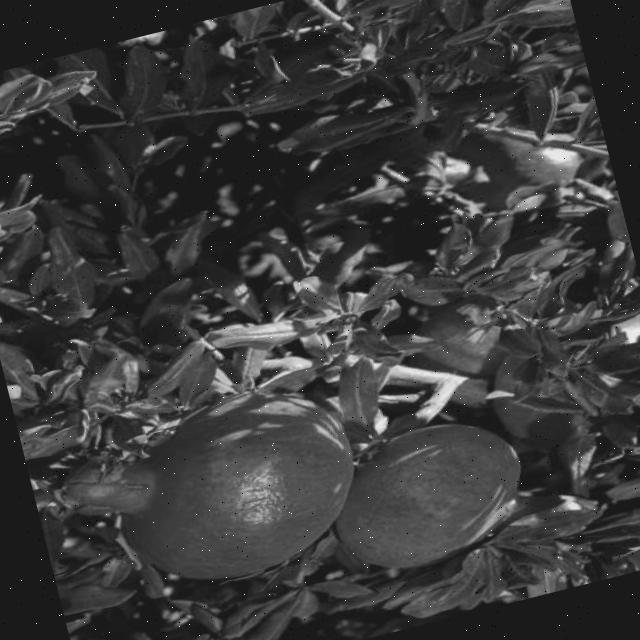Ripe: (44, 364, 387, 616), (323, 392, 570, 581)
